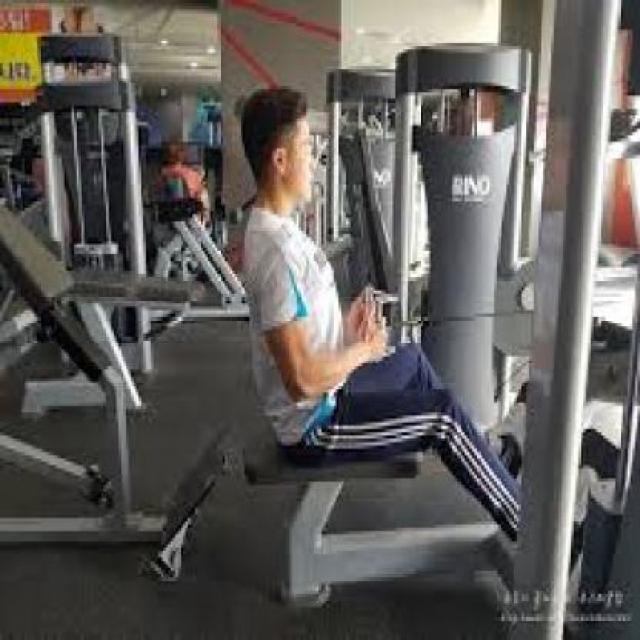Seated Cable Rows: (147, 34, 640, 628)
